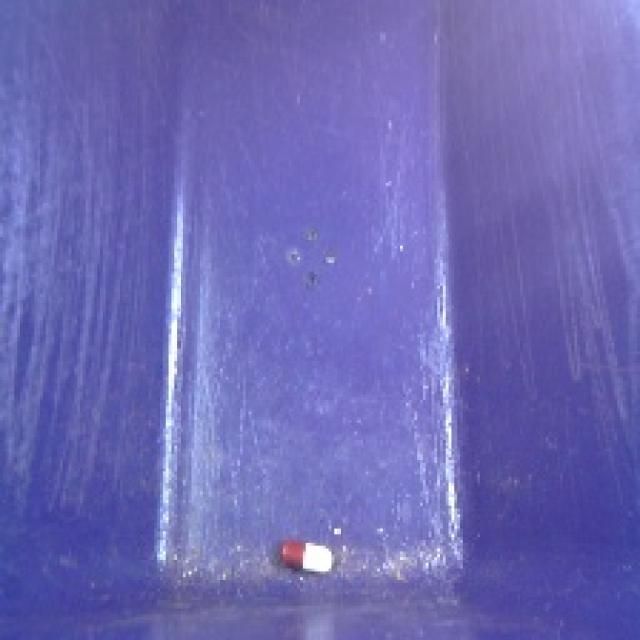small: (270, 531, 340, 586)
